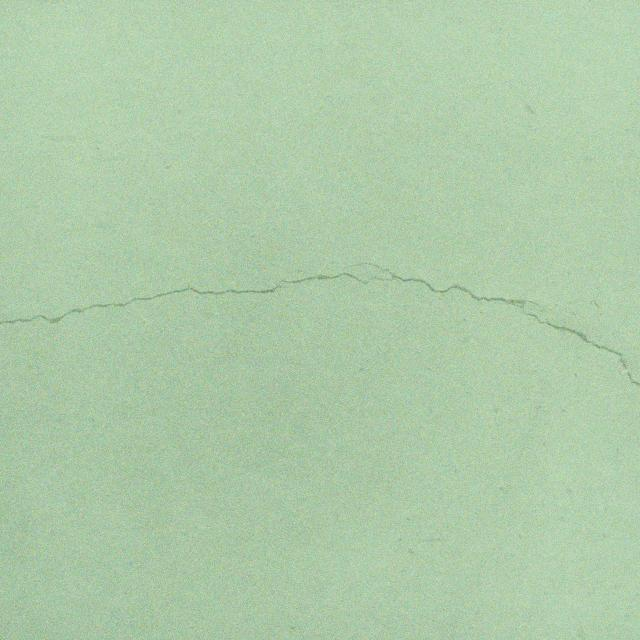crack: (0, 254, 640, 387), (548, 307, 578, 316)
